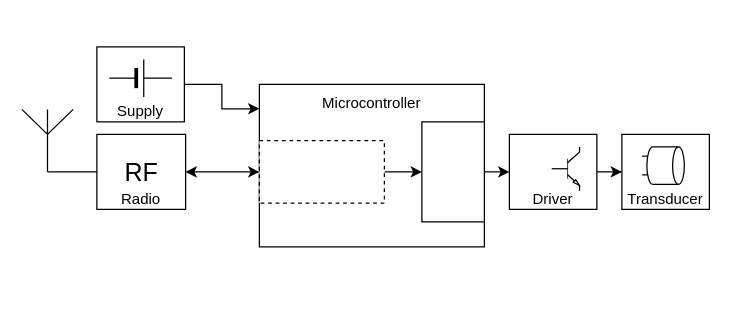
Some shapes in this 736 by 330 pixel diagram are drawn without their labels. Each missing label, with the centre of its shape:
"GPIO" belongs at (452,171).
"Radio Interface" belongs at (321,171).
